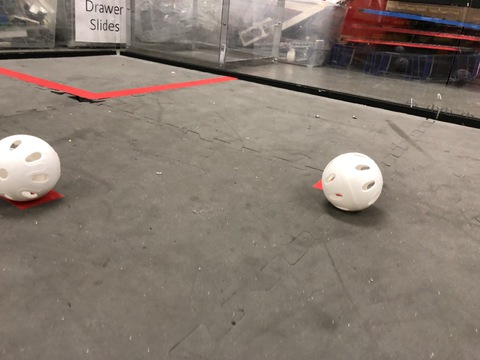ball: (305, 149, 396, 222), (1, 126, 68, 216)
